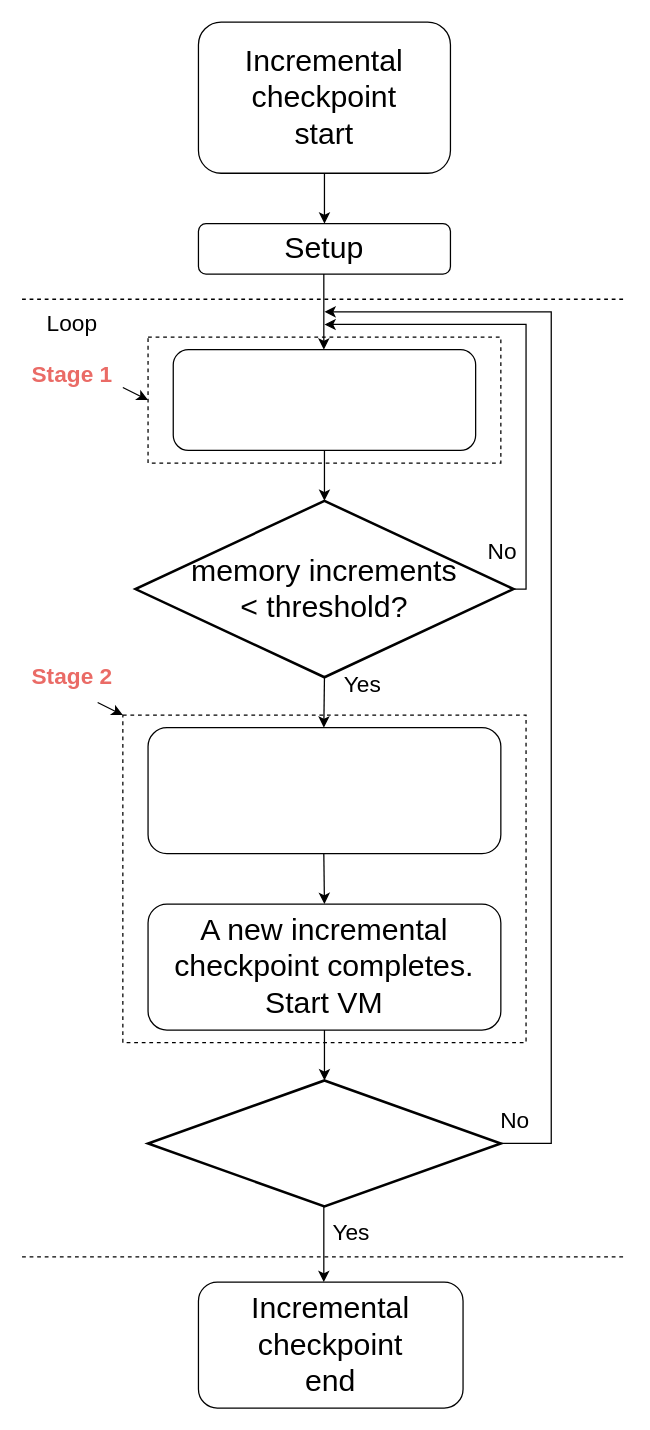
This 650x1430 diagram has some shape labels left out. The centre of each missing label's shape, as x and y in pixels:
"migration complete?" goes at [323,1143].
"Save incremental memory" goes at [324,399].
"Stop VM. Save incremental memory and vmstates" goes at [324,790].
